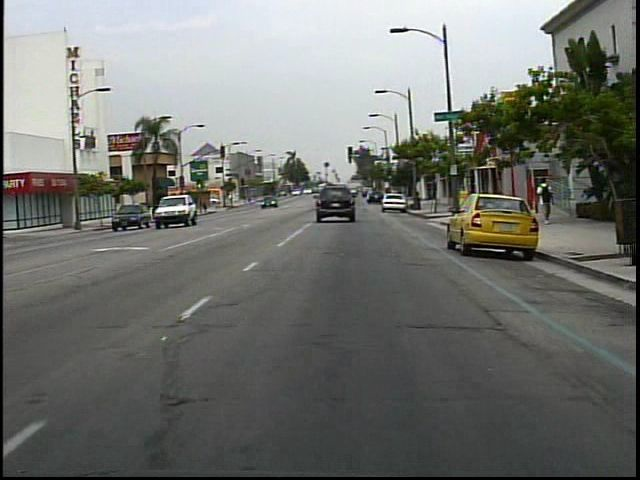person: (535, 171, 557, 226)
